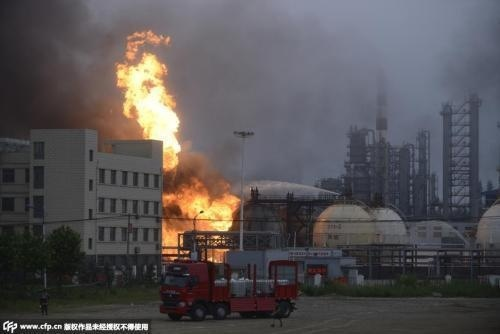fire: (114, 28, 183, 167), (161, 171, 244, 263)
